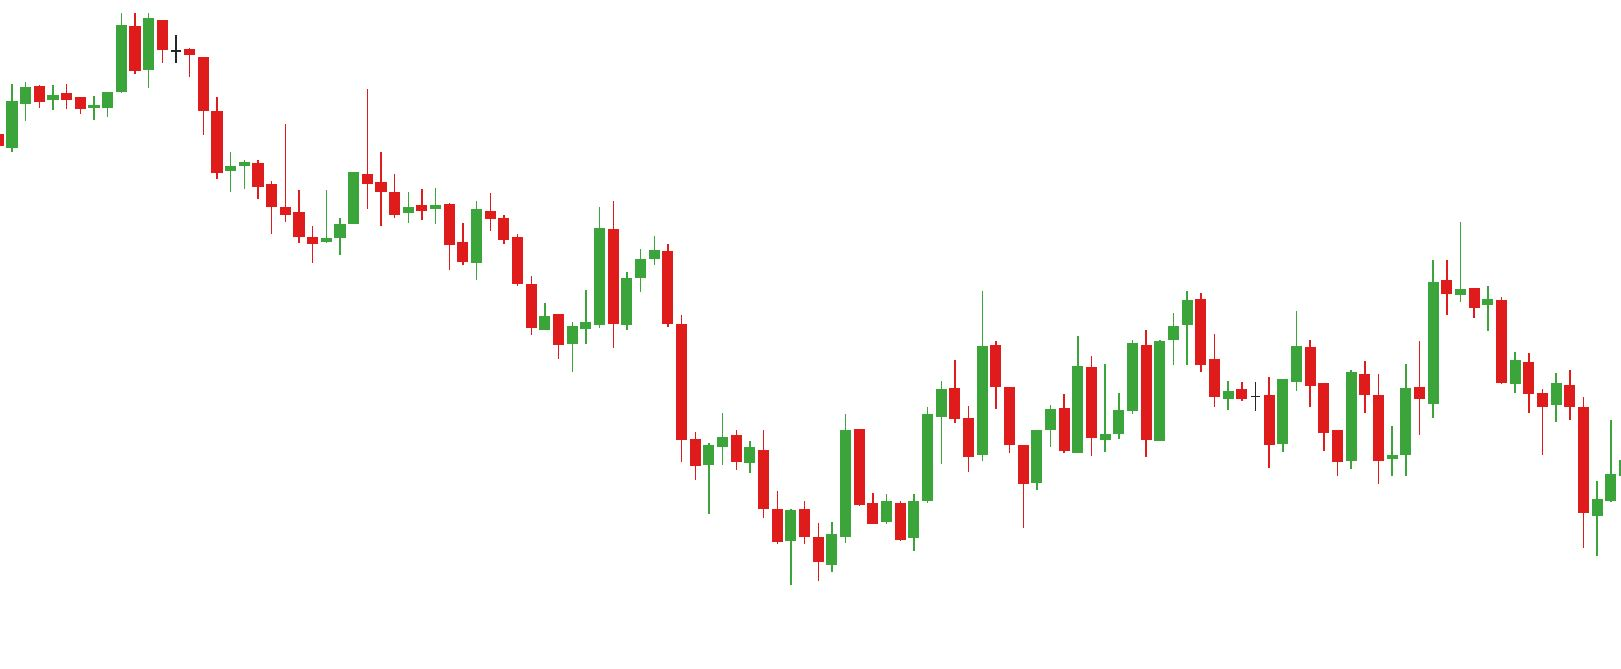buy: (964, 390, 1045, 536), (1262, 362, 1360, 475)
sell: (1183, 260, 1455, 356), (279, 85, 372, 230)
